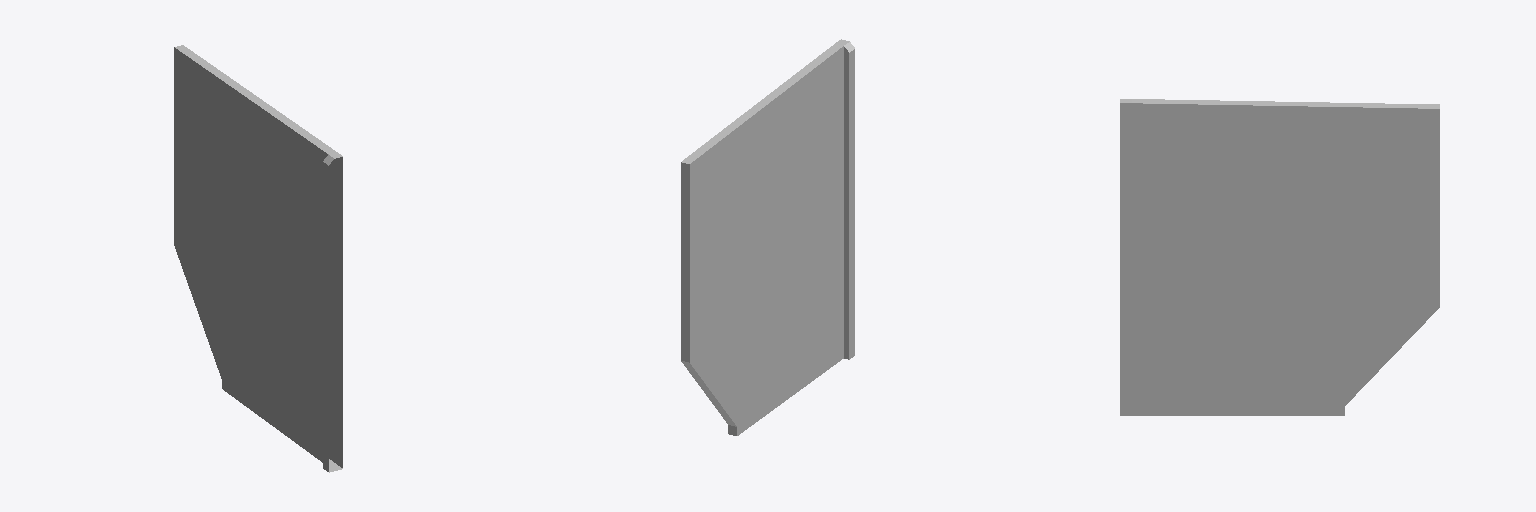
File: door.obj
The picture shows the model from 3 angles: view 1: azimuth 30°, elevation 25°; view 2: azimuth 150°, elevation 25°; view 3: azimuth 270°, elevation 25°; orthographic projection.
Parts seen in each view (by area): view 1: Door_R_Plane.003; view 2: Door_R_Plane.003; view 3: Door_R_Plane.003.
Part boxes in pixels (x1,y1,x2,y2): Door_R_Plane.003: (174,45,342,472); Door_R_Plane.003: (681,39,854,435); Door_R_Plane.003: (1120,99,1439,415).
Size of the model in its own units: 0.1343 by 2.75 by 2.56.